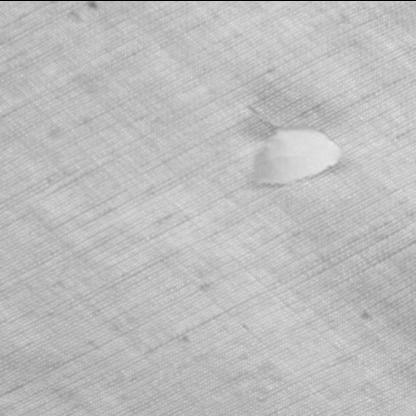objects: (250, 124, 344, 186)
